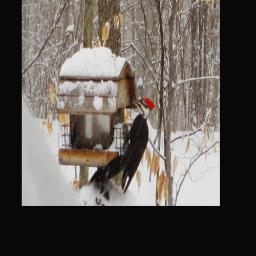Woodpecker: (95, 97, 157, 195)
